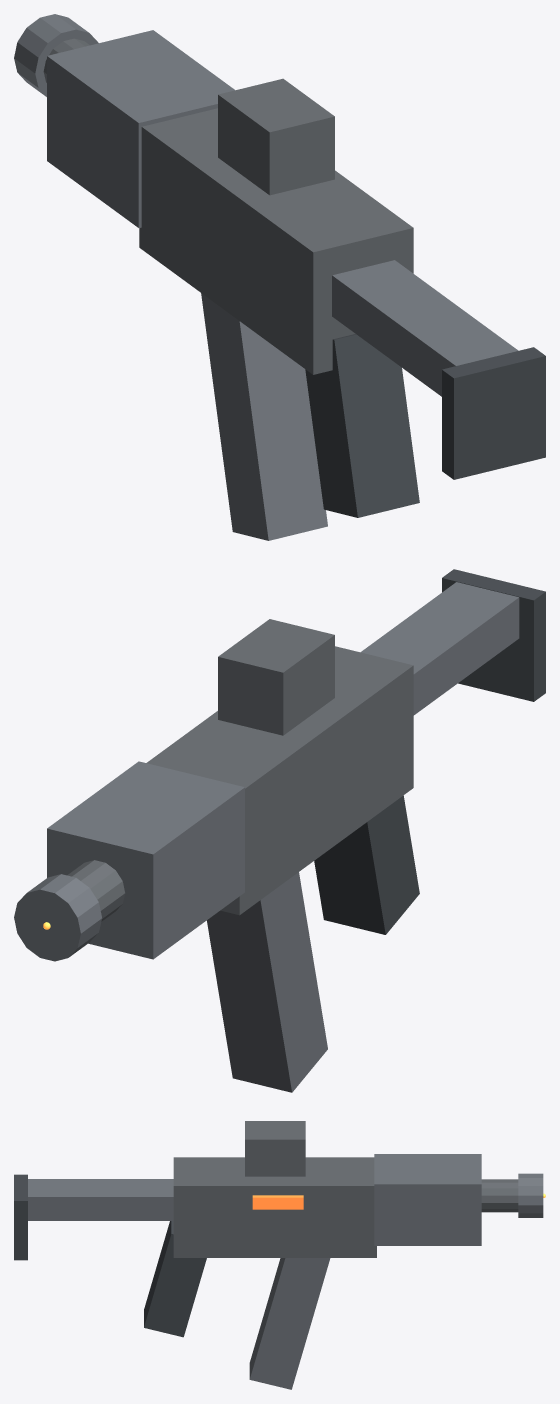
The model's file is viper_smg.glb.
3 views of the same model, one above another, from view 1: azimuth 30°, elevation 25°; view 2: azimuth 150°, elevation 25°; view 3: azimuth 270°, elevation 25° (orthographic). The views are drawn at different scales.
Visible parts, largest first — view 1: smg_receiver_1, smg_muzzle_cover_2, extended_stick_mag_5, polymer_grip_6, folding_stock_7, stock_pad_8, smg_optic_9, smg_muzzle_4; view 2: smg_receiver_1, smg_muzzle_cover_2, extended_stick_mag_5, smg_optic_9, folding_stock_7, polymer_grip_6, stock_pad_8, smg_muzzle_4, short_barrel_3; view 3: smg_receiver_1, smg_muzzle_cover_2, extended_stick_mag_5, folding_stock_7, polymer_grip_6, smg_optic_9, short_barrel_3, stock_pad_8, smg_muzzle_4, status_inlay_10.
Boxes of the visible parts, bbox=[...] form: smg_receiver_1: bbox=[139, 108, 413, 374]; smg_muzzle_cover_2: bbox=[47, 30, 234, 227]; extended_stick_mag_5: bbox=[201, 293, 327, 540]; polymer_grip_6: bbox=[305, 334, 419, 517]; folding_stock_7: bbox=[332, 260, 518, 396]; stock_pad_8: bbox=[442, 347, 545, 479]; smg_optic_9: bbox=[218, 78, 334, 195]; smg_muzzle_4: bbox=[14, 14, 98, 96]; smg_receiver_1: bbox=[146, 646, 413, 915]; smg_muzzle_cover_2: bbox=[47, 761, 244, 959]; extended_stick_mag_5: bbox=[207, 872, 327, 1092]; smg_optic_9: bbox=[218, 619, 334, 735]; folding_stock_7: bbox=[361, 582, 519, 715]; polymer_grip_6: bbox=[314, 795, 419, 934]; stock_pad_8: bbox=[442, 569, 545, 701]; smg_muzzle_4: bbox=[14, 874, 101, 961]; short_barrel_3: bbox=[67, 860, 125, 921]; smg_receiver_1: bbox=[173, 1157, 376, 1257]; smg_muzzle_cover_2: bbox=[374, 1154, 481, 1245]; extended_stick_mag_5: bbox=[249, 1258, 330, 1389]; folding_stock_7: bbox=[28, 1179, 173, 1220]; polymer_grip_6: bbox=[144, 1221, 206, 1337]; smg_optic_9: bbox=[245, 1121, 305, 1176]; short_barrel_3: bbox=[481, 1179, 518, 1212]; stock_pad_8: bbox=[14, 1174, 27, 1260]; smg_muzzle_4: bbox=[518, 1173, 543, 1217]; status_inlay_10: bbox=[252, 1195, 303, 1209].
Size of the model in its own units: 0.1325 by 0.4904 by 0.9415.
